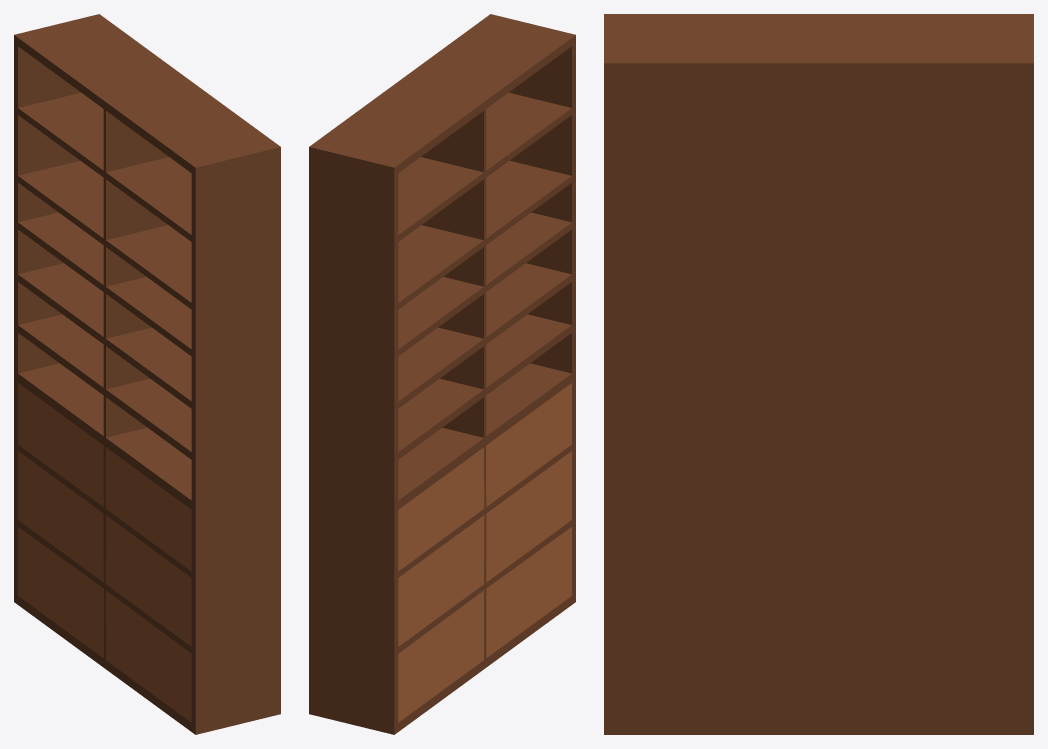
The model's file is schrank2.fbx.
3 renders of one model, left to right at view 1: azimuth 30°, elevation 25°; view 2: azimuth 150°, elevation 25°; view 3: azimuth 270°, elevation 25°, orthographic. The views are drawn at different scales.
Parts seen in each view (by area): view 1: Cube.004; view 2: Cube.004; view 3: Cube.004.
Part boxes in pixels (box(x1,y1,x2,y2)): Cube.004: box(14, 14, 280, 734); Cube.004: box(309, 14, 575, 734); Cube.004: box(604, 14, 1033, 734).
Size of the model in its own units: 19 by 121 by 70.
